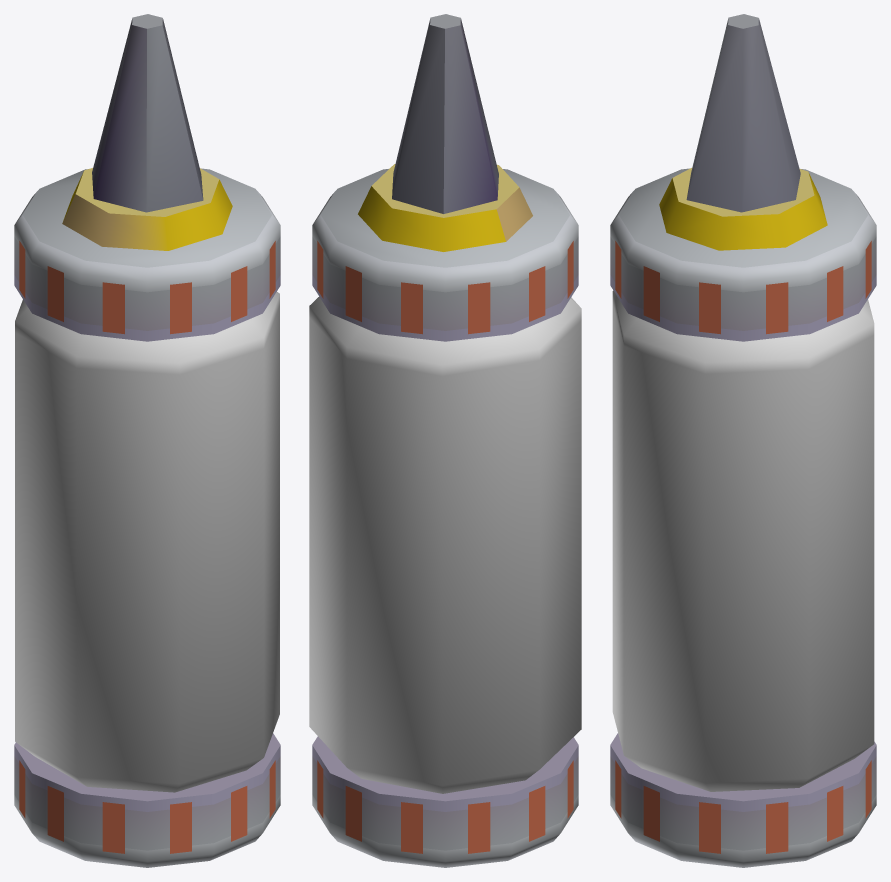
Rendered from HotSauceBatteryHotTub.glb.
The picture shows the model from 3 angles, left to right: view 1: azimuth 30°, elevation 25°; view 2: azimuth 150°, elevation 25°; view 3: azimuth 270°, elevation 25°; orthographic projection.
Parts seen in each view (by area): view 1: HotSauceBatteryHotTub; view 2: HotSauceBatteryHotTub; view 3: HotSauceBatteryHotTub.
Part boxes in pixels (x1,y1,x2,y2): HotSauceBatteryHotTub: [14, 14, 280, 867]; HotSauceBatteryHotTub: [309, 14, 581, 867]; HotSauceBatteryHotTub: [610, 14, 876, 867].
Size of the model in its own units: 0.1583 by 0.5319 by 0.1583.
